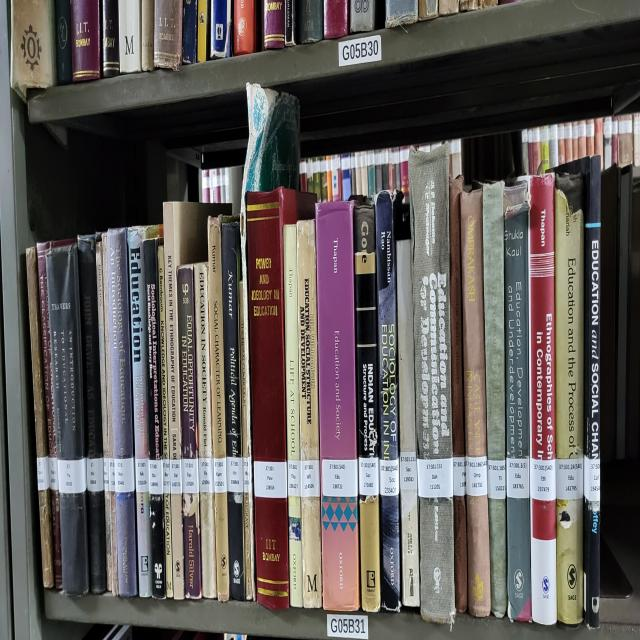Book: (162, 200, 231, 601), (246, 187, 305, 609), (410, 146, 455, 622), (240, 84, 278, 601), (562, 154, 601, 628), (316, 203, 360, 611), (45, 244, 89, 595), (529, 173, 558, 625), (555, 173, 584, 625), (460, 189, 490, 617), (128, 225, 161, 598), (504, 184, 532, 622), (106, 227, 138, 598), (482, 181, 508, 617), (375, 192, 401, 611), (354, 206, 380, 611), (296, 219, 322, 609), (78, 235, 106, 593), (26, 246, 54, 587), (221, 222, 245, 601), (36, 241, 62, 590), (396, 235, 420, 606), (142, 238, 166, 598), (208, 214, 230, 601), (95, 233, 118, 595), (176, 265, 201, 598), (449, 176, 468, 614), (194, 262, 216, 598), (284, 225, 302, 606), (158, 246, 174, 598)
Label: (418, 457, 452, 498), (322, 460, 358, 498), (254, 460, 288, 498), (556, 457, 584, 501), (530, 457, 556, 501), (58, 457, 86, 495), (506, 457, 530, 498), (466, 457, 488, 495), (584, 455, 600, 503), (359, 457, 379, 495), (488, 460, 506, 501), (114, 457, 135, 492), (301, 460, 320, 498), (400, 452, 418, 492), (380, 460, 400, 495), (86, 457, 104, 492), (226, 457, 244, 492), (182, 457, 199, 492), (452, 457, 466, 495), (149, 460, 164, 495), (199, 457, 214, 492), (288, 460, 301, 498), (135, 457, 149, 492), (214, 457, 228, 492), (36, 457, 50, 490), (170, 460, 182, 495), (49, 457, 59, 492), (242, 457, 251, 492), (162, 457, 170, 495), (109, 457, 115, 492), (104, 457, 109, 492)
